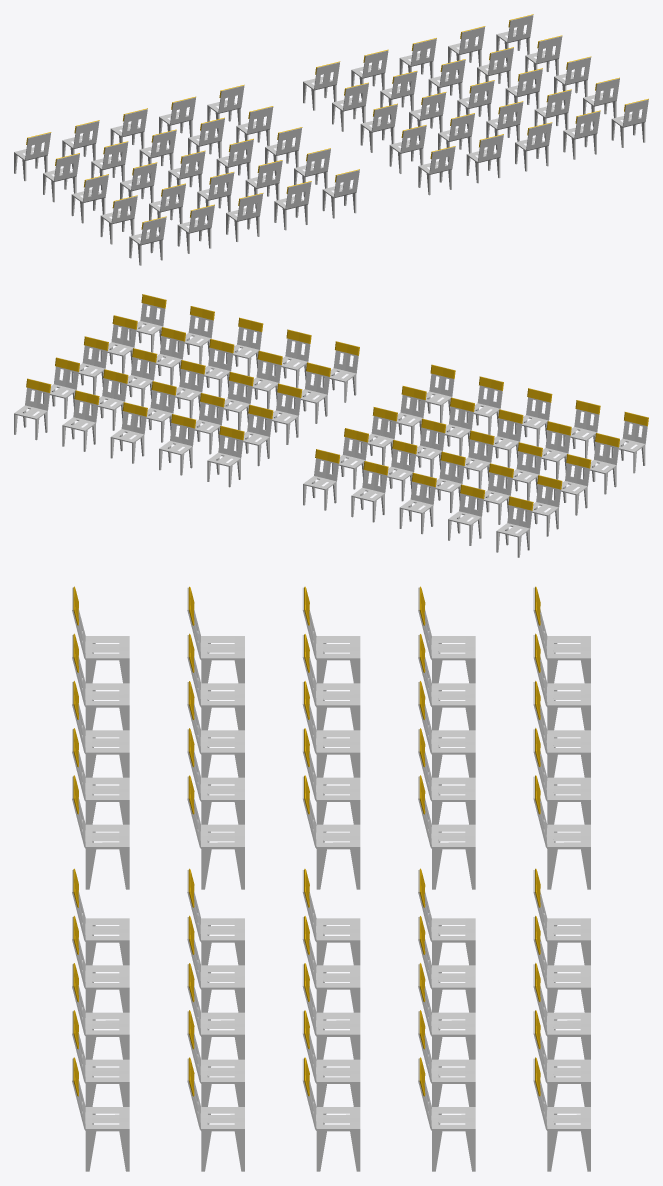
The model's file is Chair Set.fbx.
The picture shows the model from 3 angles, top to bottom: view 1: azimuth 30°, elevation 25°; view 2: azimuth 150°, elevation 25°; view 3: azimuth 270°, elevation 25°; orthographic projection. The views are drawn at different scales.
Parts seen in each view (by area): view 1: Cube.093, Cube.092; view 2: Cube.093, Cube.092; view 3: Cube.092, Cube.093.
Part boxes in pixels (<box>): Cube.093: <box>303,14,648,195</box>; Cube.092: <box>14,84,359,265</box>; Cube.093: <box>14,294,359,487</box>; Cube.092: <box>303,364,648,557</box>; Cube.092: <box>72,586,590,889</box>; Cube.093: <box>72,868,590,1171</box>.
Bounding box in the file's own units: 647 × 55.99 × 287.
